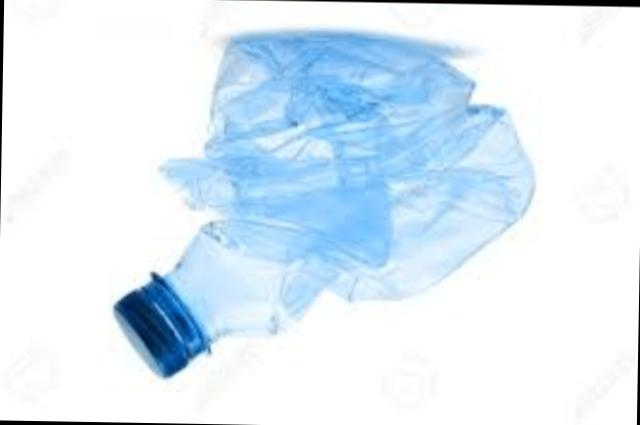plastic: (120, 40, 535, 378)
